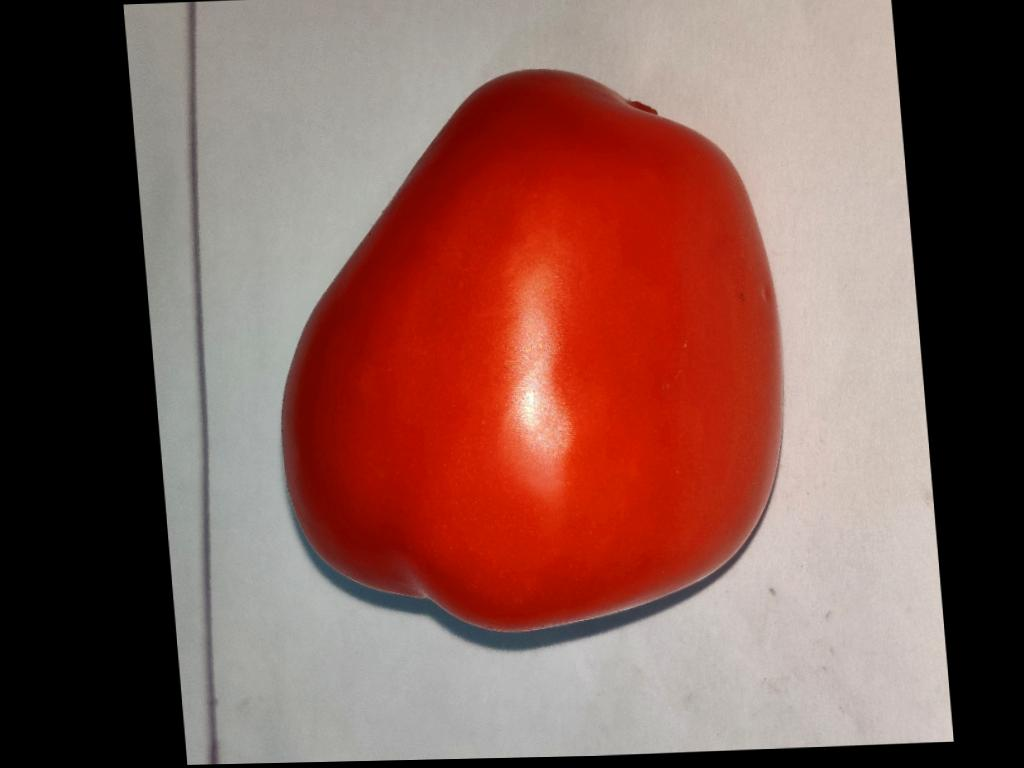tomato: (282, 70, 780, 631)
